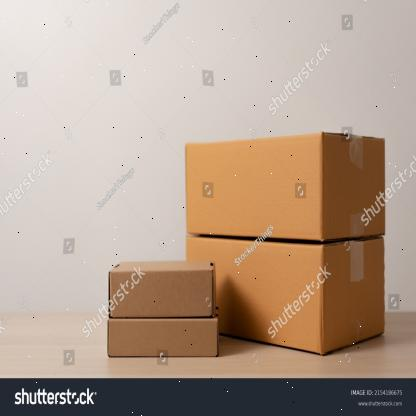box: (186, 237, 322, 354), (185, 130, 323, 242), (108, 266, 215, 317), (107, 316, 218, 358)
